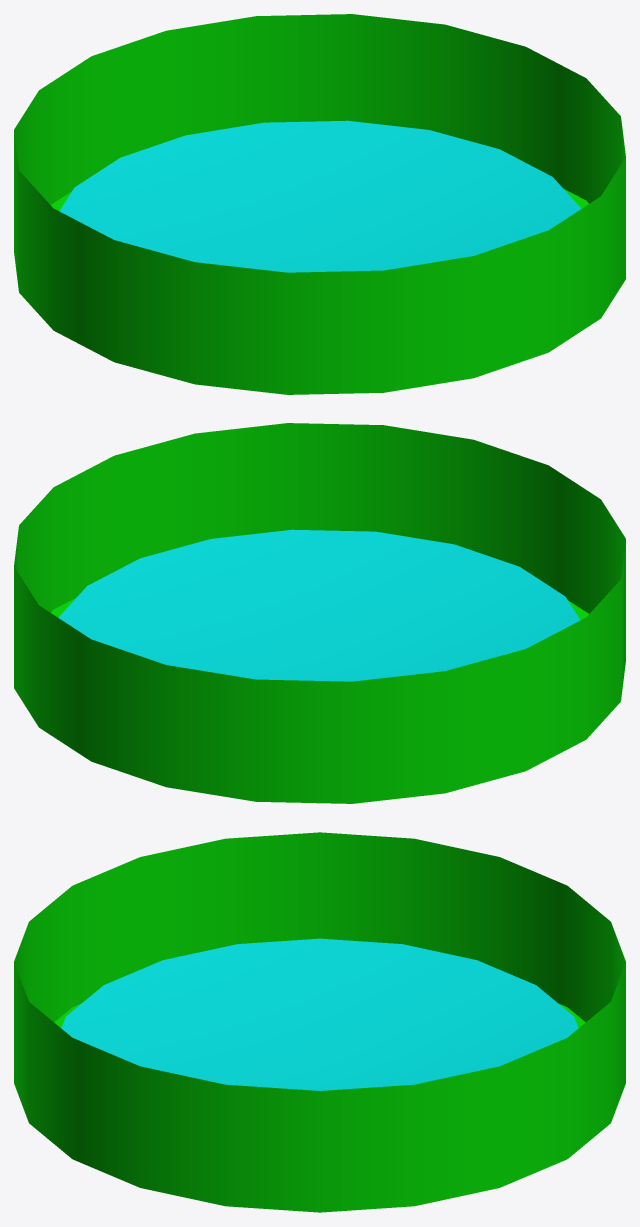
Rendered from Light.fbx.
The picture shows the model from 3 angles, top to bottom: view 1: azimuth 30°, elevation 25°; view 2: azimuth 150°, elevation 25°; view 3: azimuth 270°, elevation 25°; orthographic projection.
Parts seen in each view (by area): view 1: Light; view 2: Light; view 3: Light.
Boxes of the visible parts, left/top/right/bottom form: Light: left=14, top=14, right=625, bottom=394; Light: left=14, top=423, right=625, bottom=803; Light: left=14, top=832, right=625, bottom=1212.
Size of the model in its own units: 18.11 by 3.97 by 18.11.
